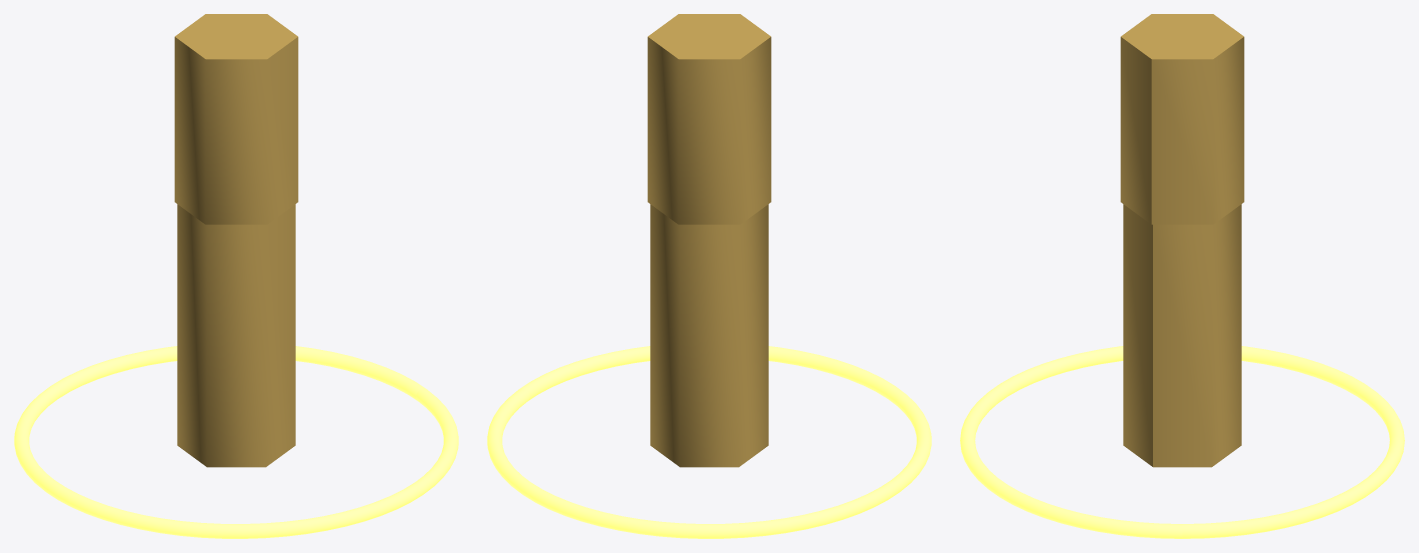
The model's file is ysl-rouge-pur-couture.glb.
3 views of the same model, side by side, from view 1: azimuth 30°, elevation 25°; view 2: azimuth 150°, elevation 25°; view 3: azimuth 270°, elevation 25° (orthographic).
Visible parts, largest first — view 1: Body, CapShell, Halo; view 2: Body, CapShell, Halo; view 3: Body, CapShell, Halo.
Boxes of the visible parts, x1=… form: Body: x1=177, y1=204, x2=295, y2=467; CapShell: x1=174, y1=14, x2=298, y2=224; Halo: x1=14, y1=346, x2=458, y2=538; Body: x1=650, y1=204, x2=768, y2=467; CapShell: x1=647, y1=14, x2=771, y2=224; Halo: x1=487, y1=346, x2=931, y2=538; Body: x1=1123, y1=204, x2=1241, y2=467; CapShell: x1=1120, y1=14, x2=1244, y2=224; Halo: x1=960, y1=346, x2=1404, y2=538.
Bounding box in the file's own units: 0.0828 × 0.0844 × 0.0828.
